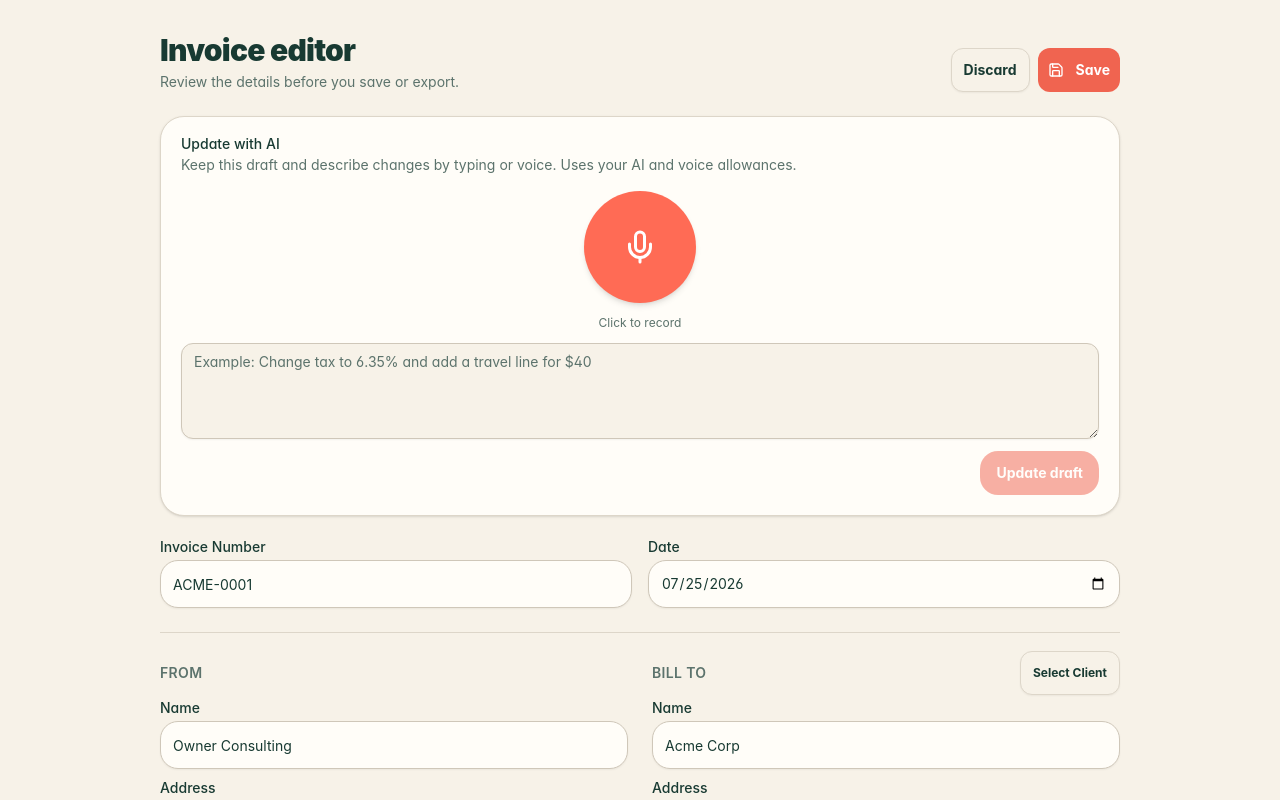
Test: InvoiceEditorPage save-first flow (R1) › saves without downloading, then prompts to email the saved invoice
Click the button "Save". click: (1079, 70)
box: [1038, 48, 1120, 92]
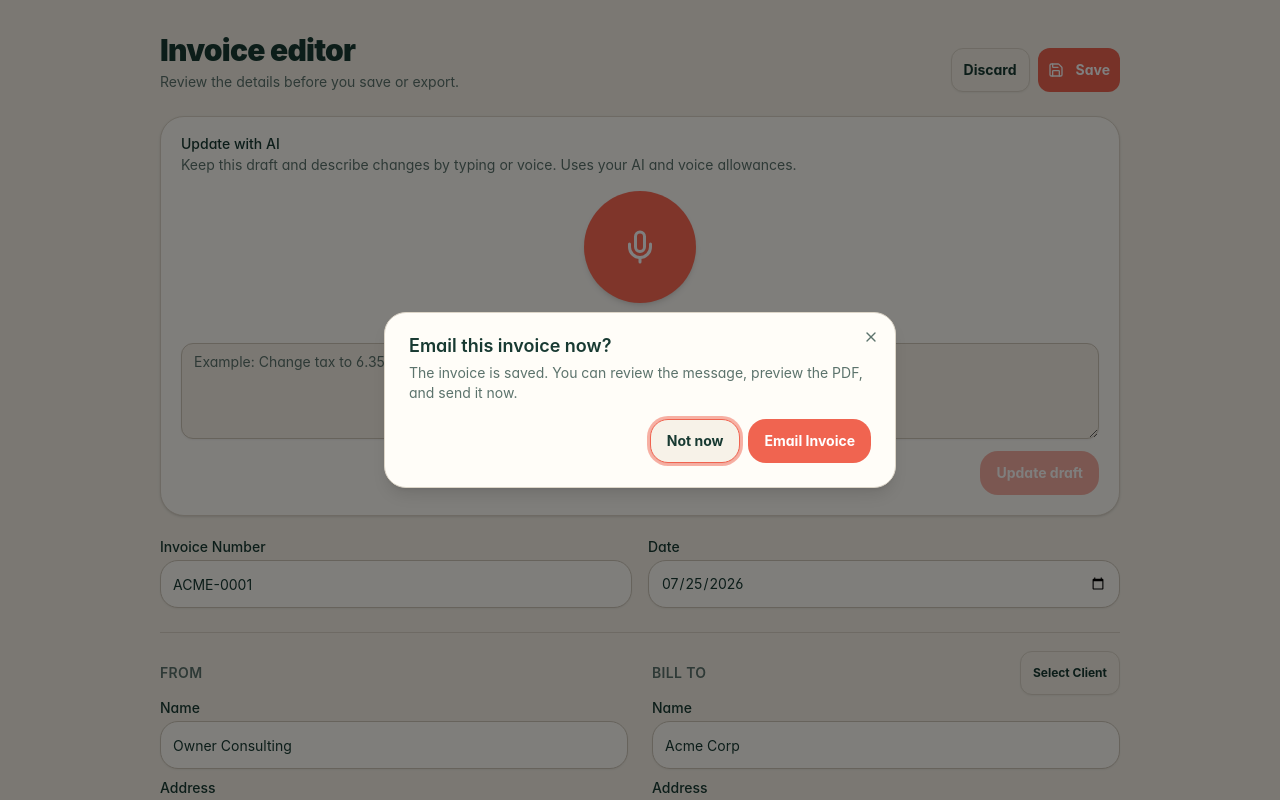
Check: the heading "Email this invoice now?" is shown, box [409, 335, 611, 356]
